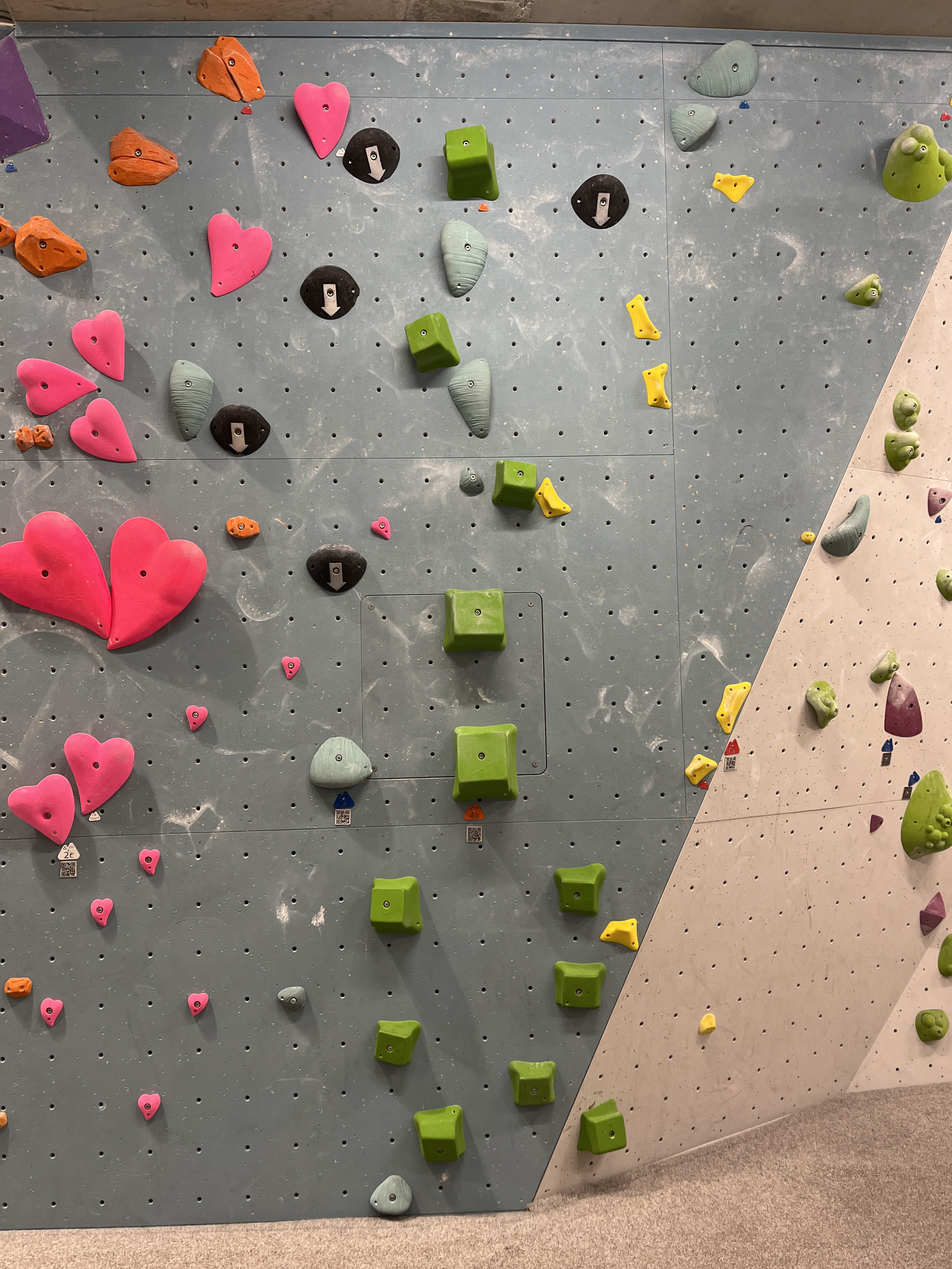hold: (1, 511, 110, 638), (106, 518, 206, 648), (0, 37, 46, 161), (65, 734, 134, 813), (883, 123, 952, 201), (207, 214, 270, 296), (454, 725, 518, 803), (8, 775, 74, 845), (901, 770, 952, 859), (17, 358, 95, 414), (195, 37, 261, 103), (14, 217, 87, 276), (687, 42, 760, 99), (293, 83, 348, 158), (70, 399, 136, 460), (444, 589, 506, 652), (445, 126, 497, 200), (106, 129, 174, 185), (71, 312, 123, 381), (169, 361, 213, 438), (441, 221, 486, 294), (343, 127, 400, 184), (450, 362, 492, 438), (308, 738, 371, 788), (299, 265, 358, 318), (574, 175, 630, 228), (821, 497, 870, 557), (406, 313, 457, 370), (211, 405, 270, 454), (414, 1105, 462, 1163), (306, 546, 366, 592), (370, 878, 421, 932), (884, 671, 923, 737), (556, 865, 605, 914), (580, 1102, 627, 1152), (555, 962, 605, 1008), (492, 459, 536, 510), (671, 103, 717, 150), (511, 1061, 555, 1106), (375, 1022, 420, 1065), (718, 682, 751, 731), (371, 1176, 411, 1216), (626, 294, 660, 340), (808, 680, 839, 727), (884, 431, 919, 471), (537, 478, 571, 516), (643, 363, 671, 409), (844, 274, 882, 307), (893, 390, 921, 431), (915, 1010, 949, 1043), (604, 919, 640, 950), (920, 892, 946, 933), (714, 174, 754, 200), (872, 650, 899, 684), (686, 756, 716, 785), (927, 486, 952, 516), (460, 465, 484, 494), (225, 518, 257, 539), (39, 997, 61, 1025), (938, 933, 952, 977), (276, 987, 303, 1009), (4, 977, 32, 998), (136, 1094, 159, 1118), (88, 899, 110, 924), (936, 569, 952, 602), (32, 424, 53, 448), (15, 426, 34, 452), (136, 851, 157, 872), (187, 994, 206, 1016), (188, 706, 206, 729), (281, 657, 299, 676), (700, 1014, 716, 1033), (372, 520, 389, 537), (0, 220, 9, 250), (802, 531, 816, 543), (0, 1109, 7, 1129)
